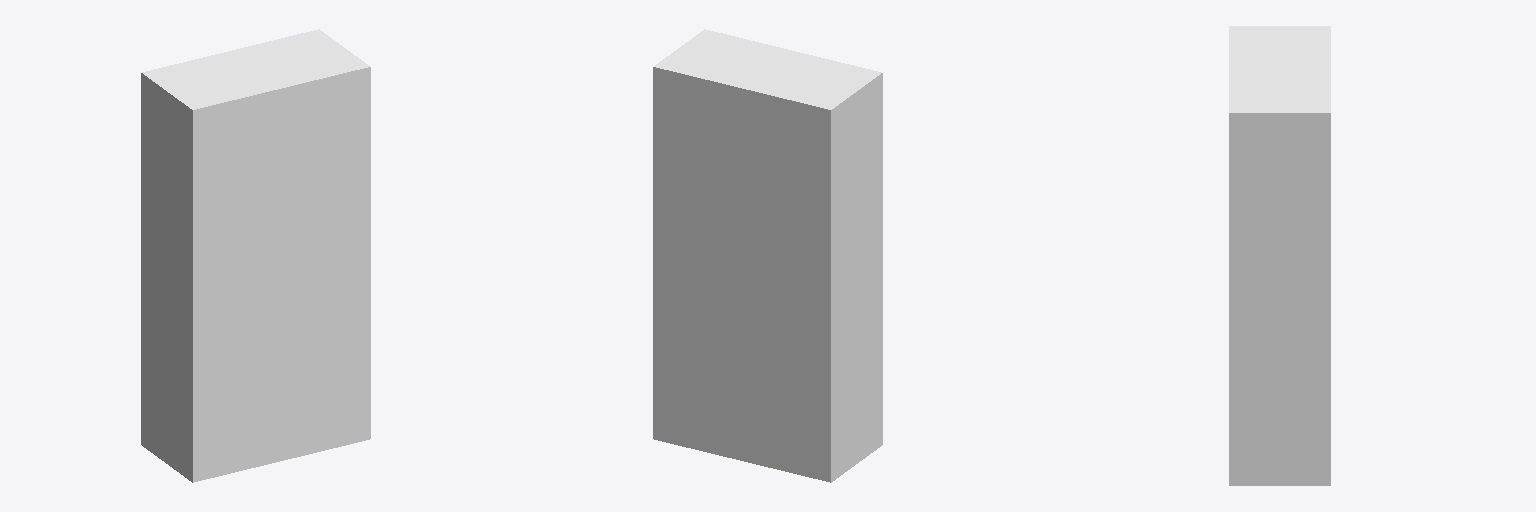
File: male_02-1.obj
3 renders of one model, left to right at view 1: azimuth 30°, elevation 25°; view 2: azimuth 150°, elevation 25°; view 3: azimuth 270°, elevation 25°, orthographic.
Parts seen in each view (by area): view 1: male_02-1; view 2: male_02-1; view 3: male_02-1.
Part boxes in pixels (x1,y1,x2,y2): male_02-1: (141,29,370,482); male_02-1: (653,29,882,482); male_02-1: (1229,26,1330,485).
Size of the model in its own units: 16 by 32 by 8.